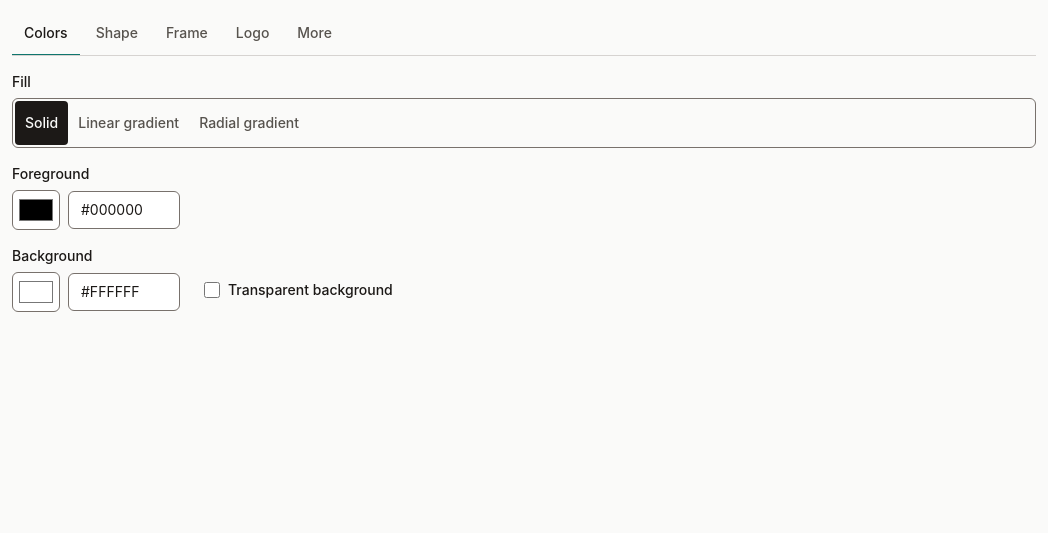
Test case: DesignPanel tabs › keeps 'each eye separately' ticked across tab switches
Click the tab "Shape".
click(117, 34)  # box x1=84 y1=12 x2=150 y2=56
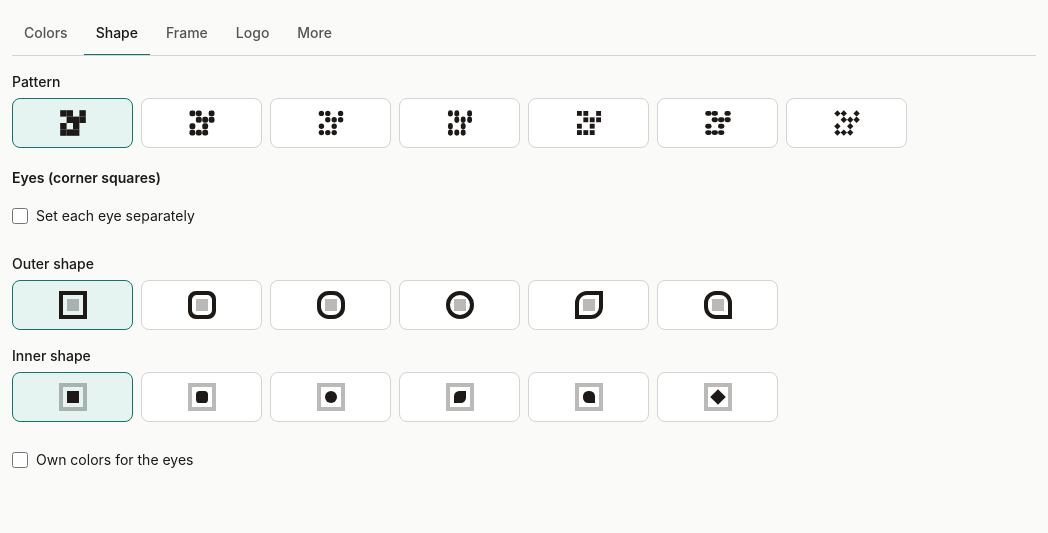
Click the checkbox labelled "Set each eye separately".
click(20, 216)  # box x1=12 y1=208 x2=28 y2=224
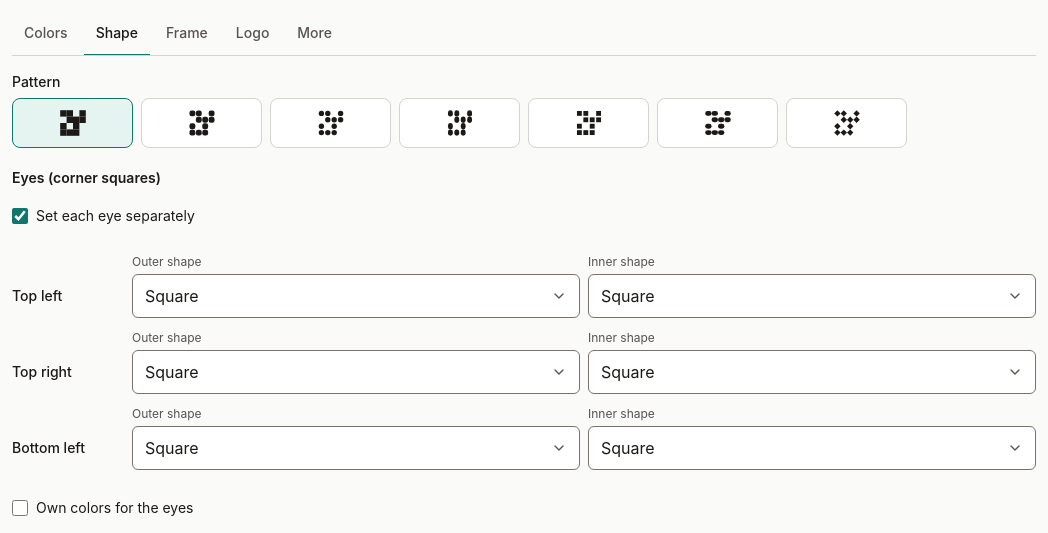
Click the tab "Colors".
click(46, 34)  # box x1=12 y1=12 x2=80 y2=56
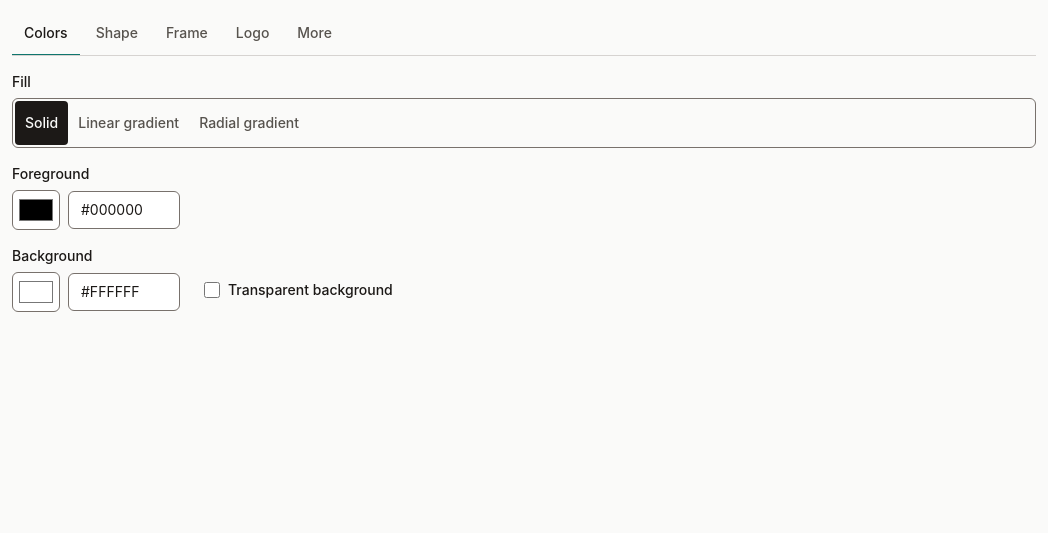
Click the tab "Shape".
click(117, 34)  # box x1=84 y1=12 x2=150 y2=56
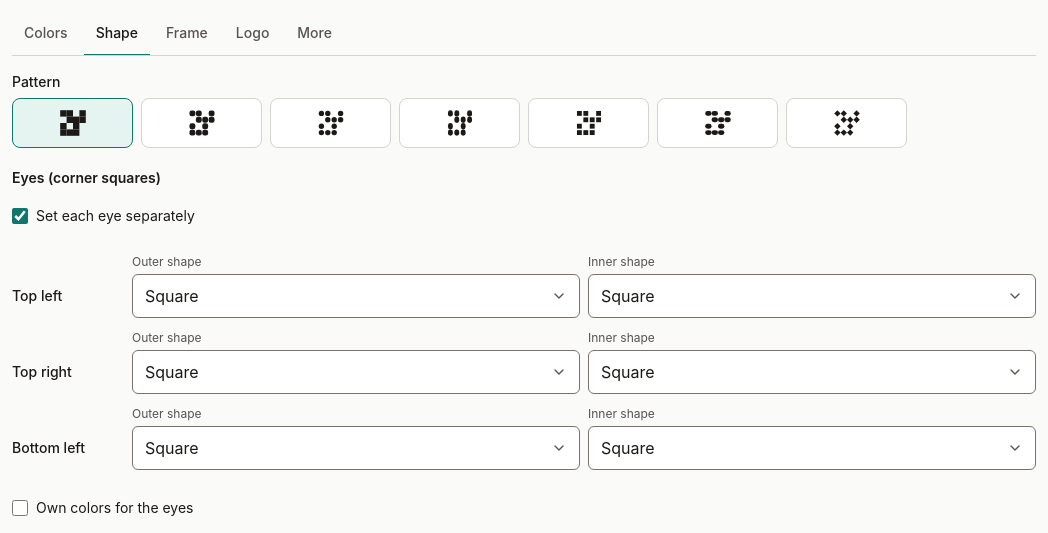
Expected: the checkbox labelled "Set each eye separately" is checked, x1=12 y1=208 x2=28 y2=224
